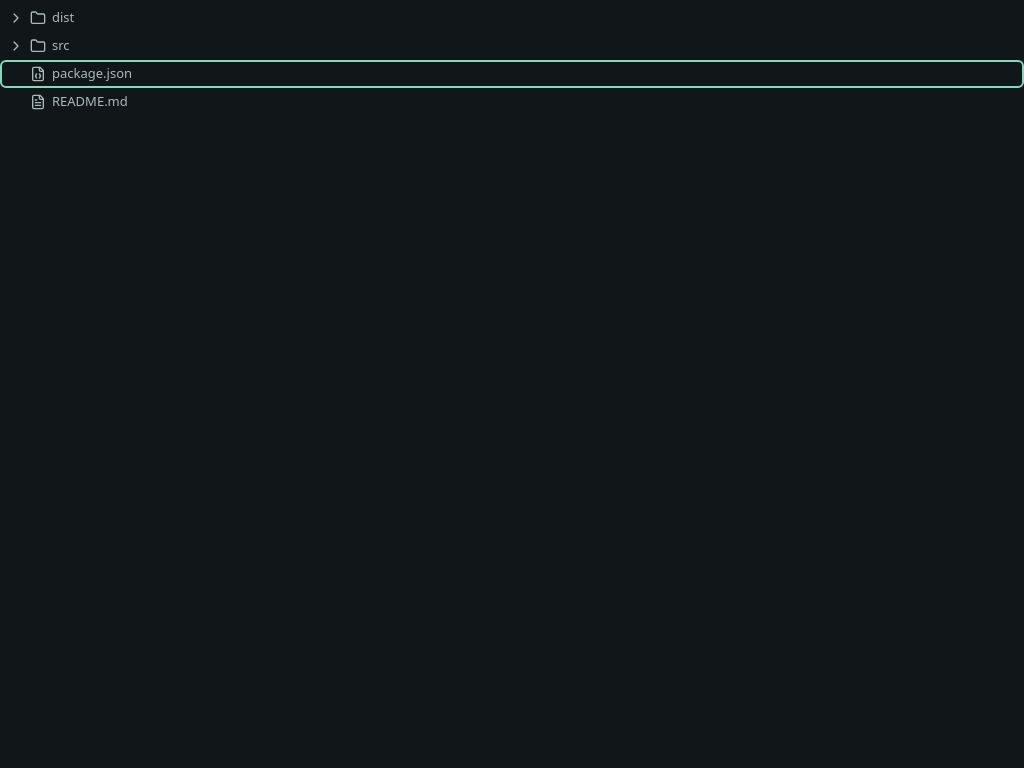
Test: FileTree › asks before moving to the trash, then trashes
Press Delete in the list item "package.json", box [30,64,132,82]
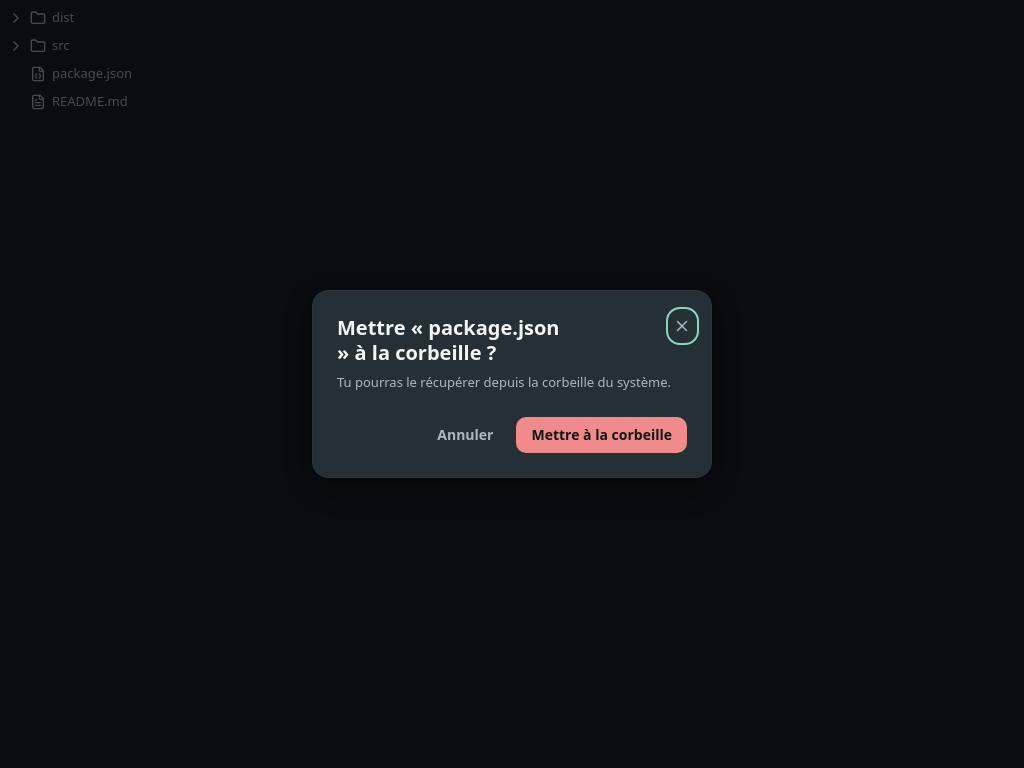
Click the button "Mettre à la corbeille": (602, 435) [516,417,687,453]
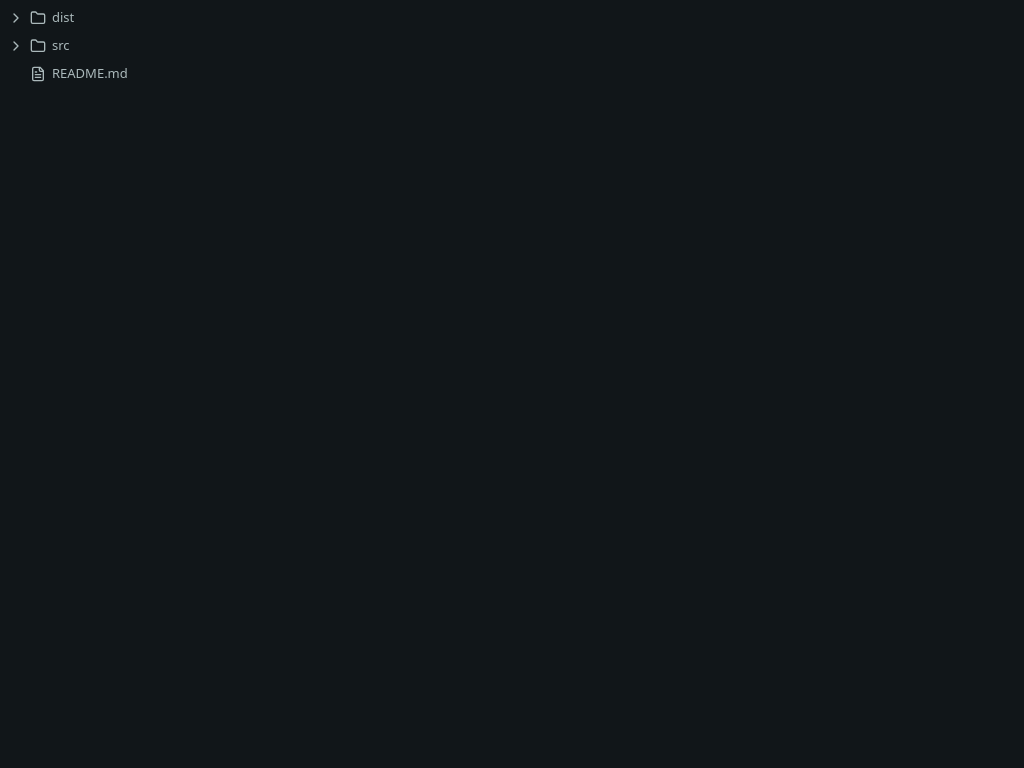
Result: the text "package.json" is gone
